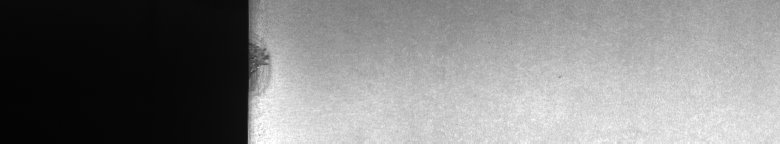hb: (260, 40, 279, 80)
